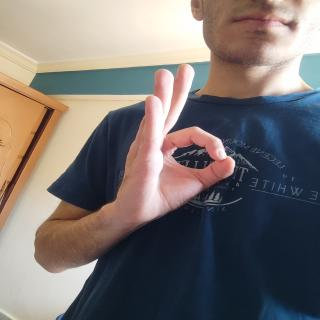Space: (119, 61, 239, 216)
